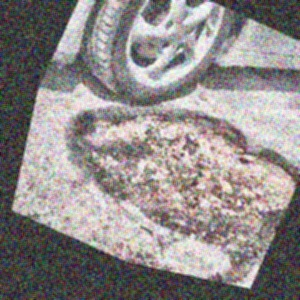pothole: (35, 55, 300, 277)
